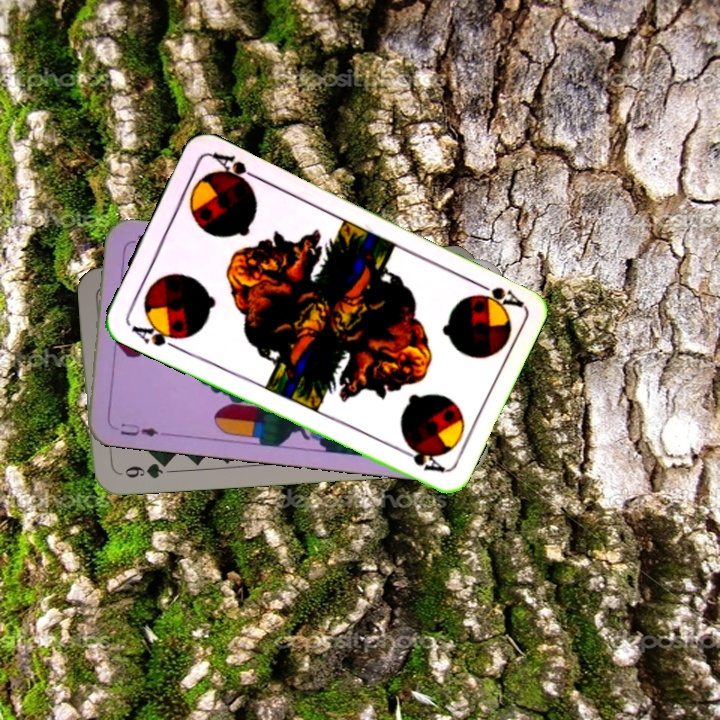EU: (108, 419, 160, 439)
G9: (113, 457, 172, 481)
SA: (127, 316, 186, 353), (468, 276, 525, 311)
